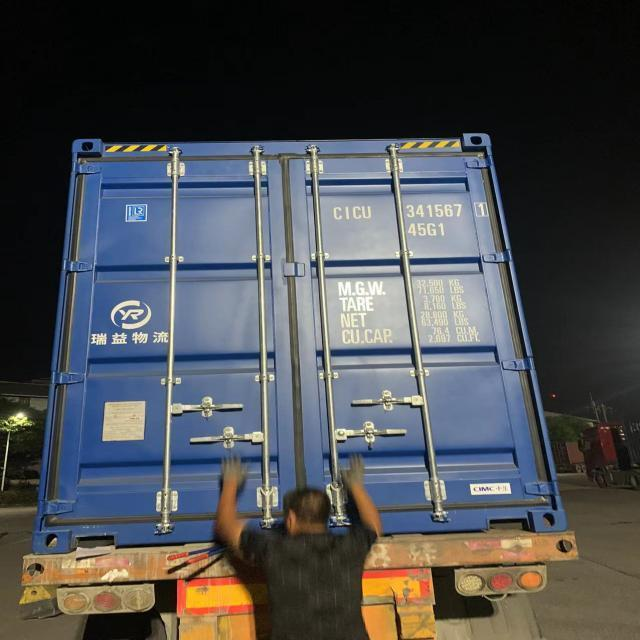ISO: (412, 222, 447, 238)
container_number: (337, 202, 490, 222)
